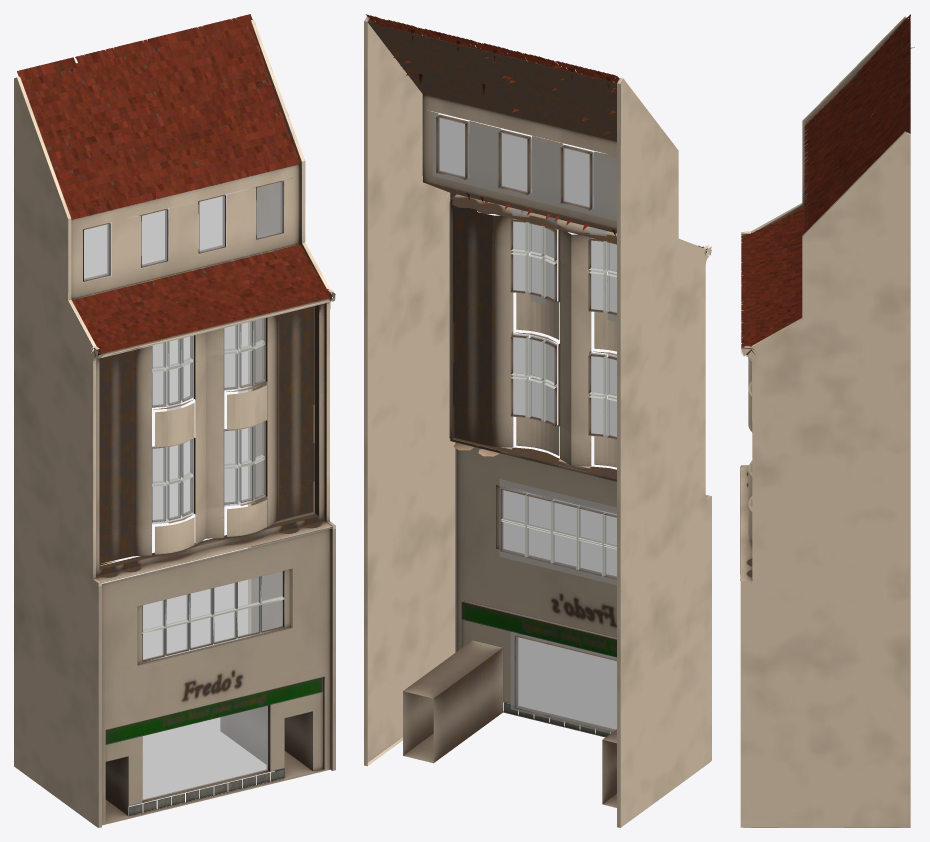
The model's file is berlin_altbau.gltf.
3 renders of one model, left to right at view 1: azimuth 30°, elevation 25°; view 2: azimuth 150°, elevation 25°; view 3: azimuth 270°, elevation 25°, orthographic. The views are drawn at different scales.
Visible parts, largest first — view 1: classical.003_classical.003_base_0; view 2: classical.003_classical.003_base_0; view 3: classical.003_classical.003_base_0.
Boxes of the visible parts, left/top/right/bottom form: classical.003_classical.003_base_0: left=14, top=14, right=335, bottom=827; classical.003_classical.003_base_0: left=364, top=14, right=711, bottom=827; classical.003_classical.003_base_0: left=740, top=14, right=914, bottom=827.
Size of the model in its own units: 7.28 by 20.4 by 4.65.
Materials: 8 (7 with a texture image).
